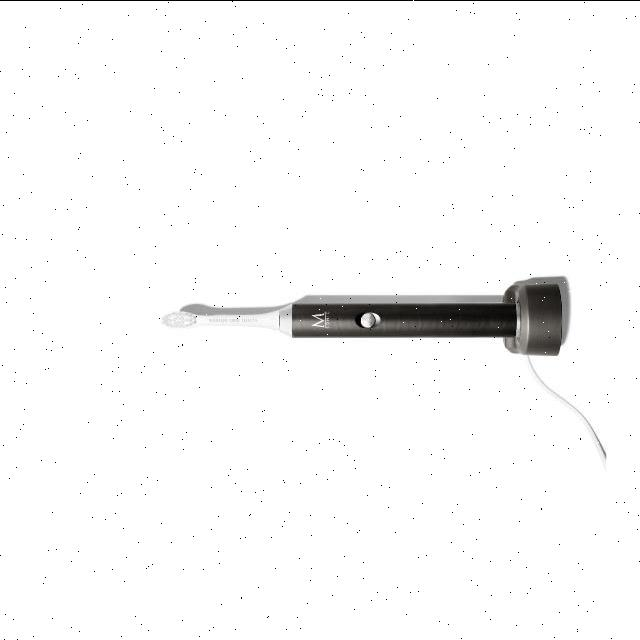toothbrush: (160, 240, 426, 380)
